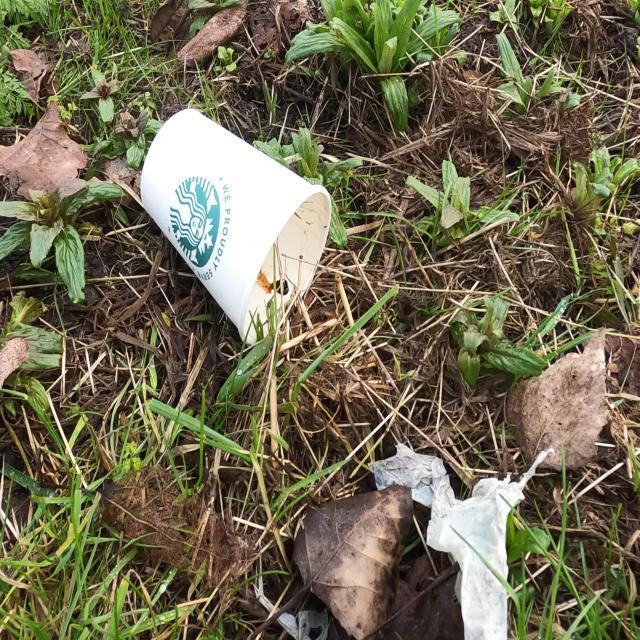Cup: (137, 103, 333, 350)
Paper: (367, 440, 558, 640)
